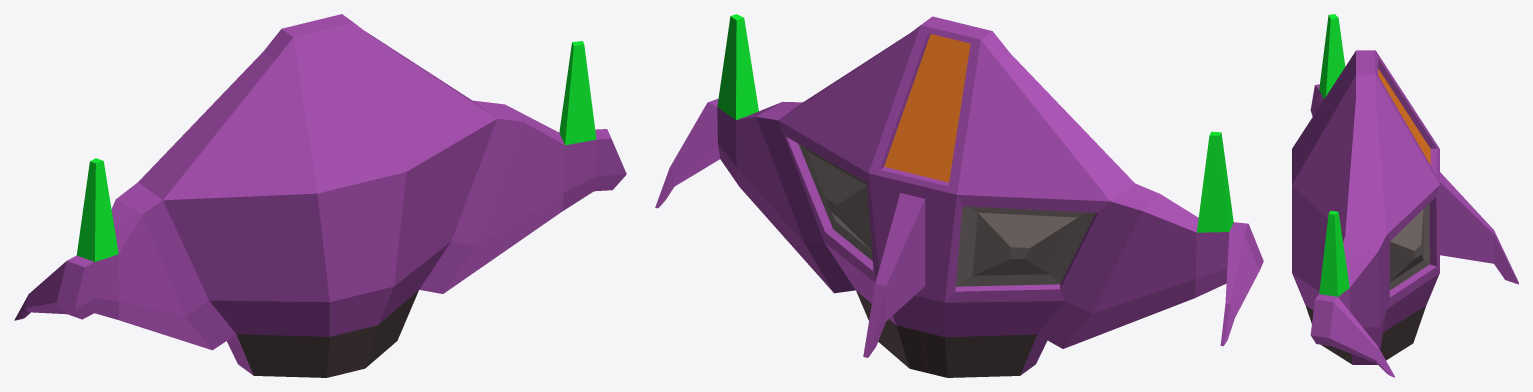
The model's file is enemy_B.fbx.
3 views of the same model, side by side, from view 1: azimuth 30°, elevation 25°; view 2: azimuth 150°, elevation 25°; view 3: azimuth 270°, elevation 25° (orthographic). The views are drawn at different scales.
Visible parts, largest first — view 1: Enemy_B; view 2: Enemy_B; view 3: Enemy_B.
Boxes of the visible parts, x1,y1,x2,y2 form: Enemy_B: [14, 14, 626, 377]; Enemy_B: [655, 14, 1263, 377]; Enemy_B: [1292, 14, 1518, 377].
Size of the model in its own units: 257 by 140 by 105.
